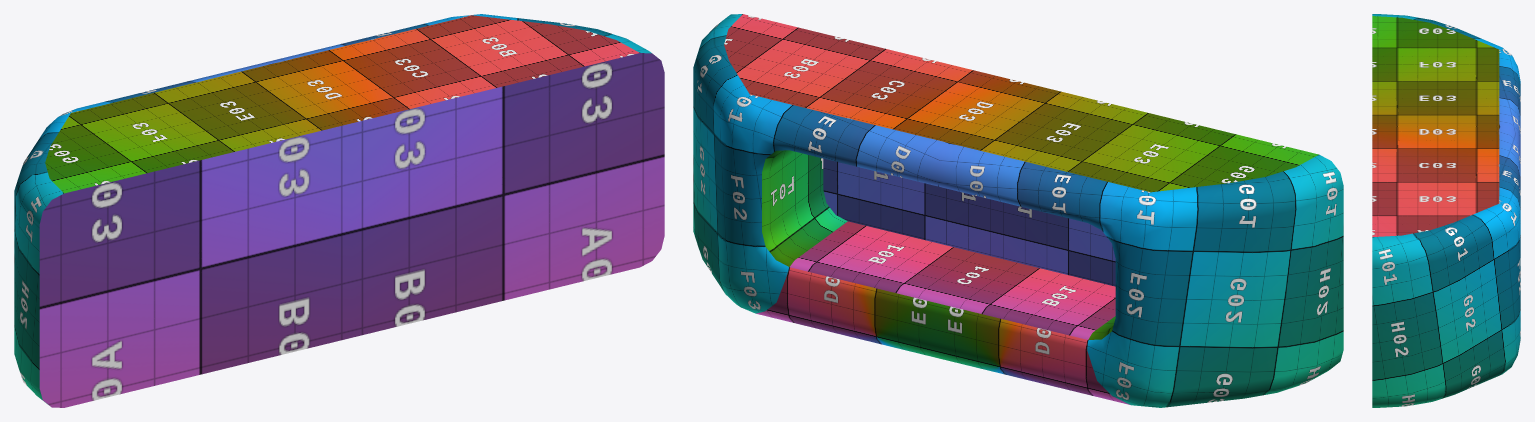
The model's file is EatTable_low.fbx.
3 views of the same model, side by side, from view 1: azimuth 30°, elevation 25°; view 2: azimuth 150°, elevation 25°; view 3: azimuth 270°, elevation 25° (orthographic). The views are drawn at different scales.
Visible parts, largest first — view 1: EatTable_low; view 2: EatTable_low; view 3: EatTable_low.
Boxes of the visible parts, <box> form: EatTable_low: <box>14,14,664,407</box>; EatTable_low: <box>693,14,1343,407</box>; EatTable_low: <box>1372,14,1520,407</box>.
Bounding box in the file's own units: 305 × 100 × 79.64.
